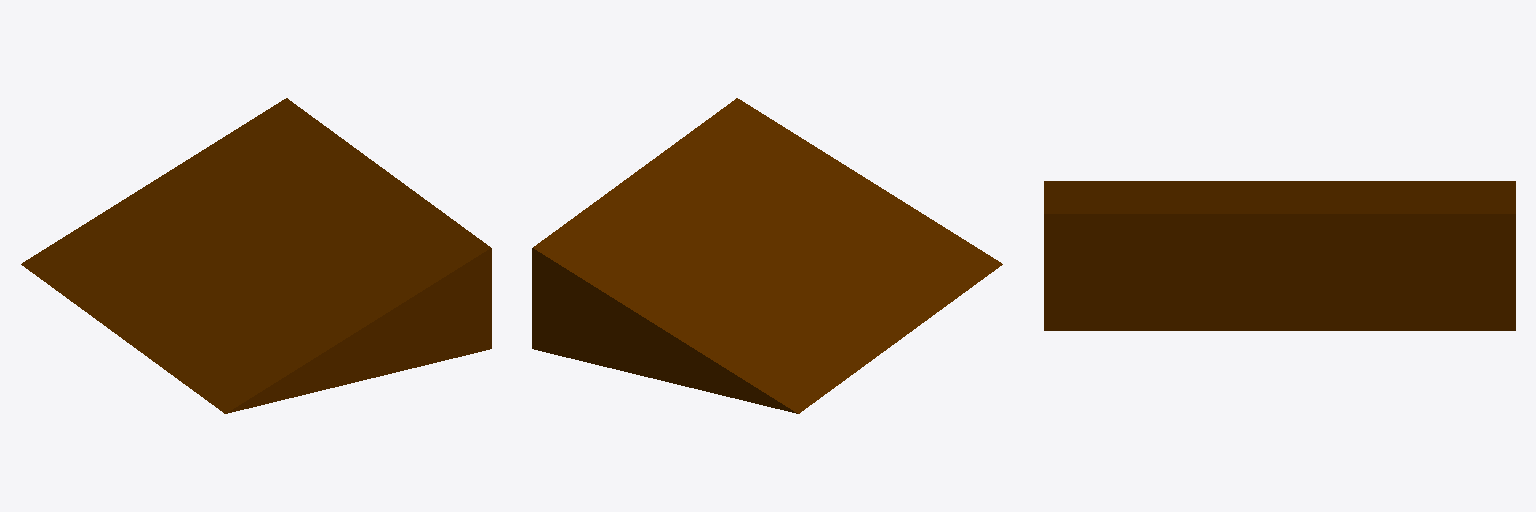
URDF robot description (v_shaped_floor):
<?xml version="0.0" ?>
<robot name="v_shaped_floor">
  <link name="l_wedge">
    <contact>
      <lateral_friction value="1"/>
    </contact>
    <inertial>
      <origin rpy="0 0 0" xyz="0 0 0"/>
       <mass value="100."/>
       <inertia ixx="1" ixy="0" ixz="-0.08" iyy="0.4" iyz="0" izz="1"/>
    </inertial>
    <visual>
      <origin rpy="0 0 0" xyz="0 0 0"/>
      <geometry>
        <mesh filename="v-shaped-surface.stl" scale="1 1 1"/>
      </geometry>
       <material name="brown">
        <color rgba="0.396078431372549 0.21568627450980393 0.0 1.0"/>
      </material>
    </visual>
    <collision>
      <origin rpy="0 0 0" xyz="0 0 0"/>
      <geometry>
          <mesh filename="v-shaped-surface.stl" scale="1 1 1"/>
      </geometry>
    </collision>
  </link>
<!--  <link name="r_wedge">-->
<!--    <contact>-->
<!--      <lateral_friction value="1"/>-->
<!--    </contact>-->
<!--    <inertial>-->
<!--      <origin rpy="0 0 -1.57079632679" xyz="0 0 0"/>-->
<!--       <mass value="100."/>-->
<!--       <inertia ixx="1" ixy="0" ixz="-0.08" iyy="0.4" iyz="0" izz="1"/>-->
<!--    </inertial>-->
<!--    <visual>-->
<!--      <origin rpy="0 0 -1.57079632679 " xyz="0 0 0"/>-->
<!--      <geometry>-->
<!--        <mesh filename="v-shaped-surface.stl" scale="1 1 1"/>-->
<!--      </geometry>-->
<!--       <material name="blue">-->
<!--        <color rgba="0 0 1 1"/>-->
<!--      </material>-->
<!--    </visual>-->
<!--    <collision>-->
<!--      <origin rpy="0 0 -1.57079632679 " xyz="0 0 0"/>-->
<!--      <geometry>-->
<!--          <mesh filename="v-shaped-surface.stl" scale="1 1 1"/>-->
<!--      </geometry>-->
<!--    </collision>-->
<!--  </link>-->

<!--  <joint name="mid_point" type="fixed">-->
<!--      <origin rpy="0 0 0" xyz="0 0 0"/>-->
<!--      <parent link="l_wedge"/>-->
<!--      <child link="r_wedge"/>-->
<!--  </joint>-->
</robot>

--- Render facts (derived) ---
Views: 3 orthographic renders of the robot side by side, from view 1: azimuth 30°, elevation 25°; view 2: azimuth 150°, elevation 25°; view 3: azimuth 270°, elevation 25°.
Model v_shaped_floor with 1 links and 0 joints (none), rooted at l_wedge, posed all joints at 0.
Links seen in each view (by area): view 1: l_wedge; view 2: l_wedge; view 3: l_wedge.
Link boxes in pixels (x1,y1,x2,y2): l_wedge: (21, 98, 491, 413); l_wedge: (532, 98, 1002, 413); l_wedge: (1044, 181, 1515, 330).
Size in the robot's own frame: 0.3 by 0.4 by 0.1092 metres.
1 mesh visuals loaded from 1 distinct referenced files (1 binary STL).